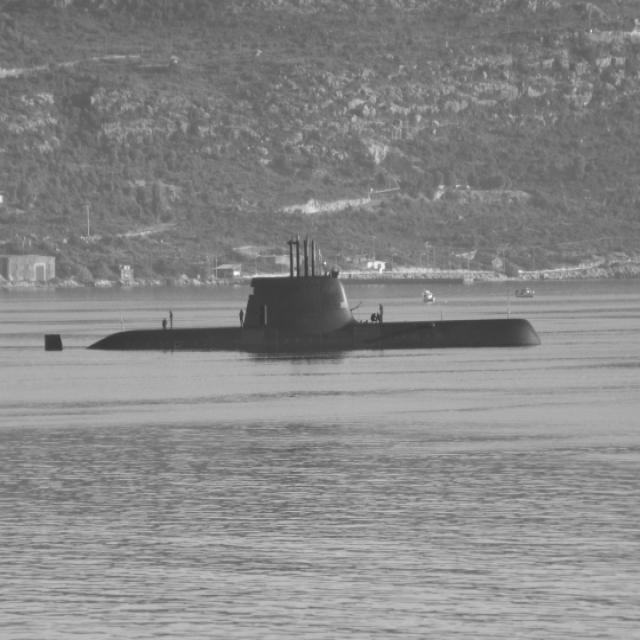submarine: (6, 228, 551, 343)
